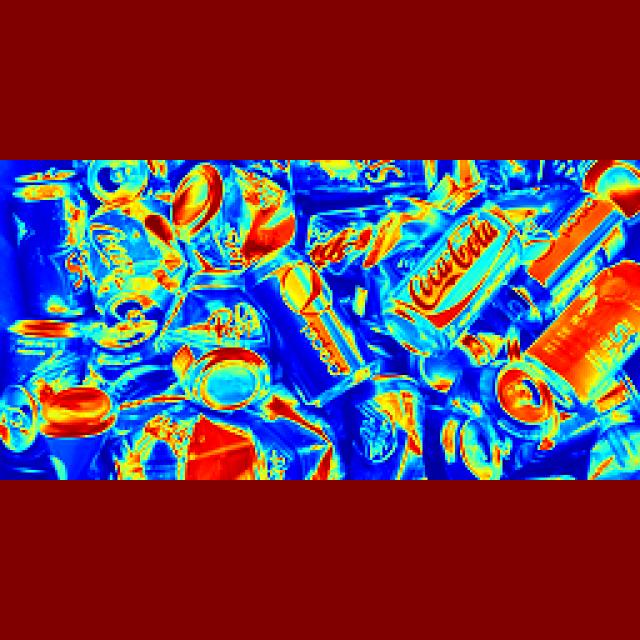Aluminium Food Cans: (233, 251, 365, 404), (382, 218, 506, 358), (545, 270, 640, 412), (56, 208, 156, 318), (512, 195, 608, 302), (343, 382, 423, 487), (300, 161, 440, 221), (436, 400, 508, 490), (188, 342, 266, 420), (129, 420, 203, 500), (152, 174, 228, 242), (42, 381, 114, 447), (110, 348, 167, 417)
